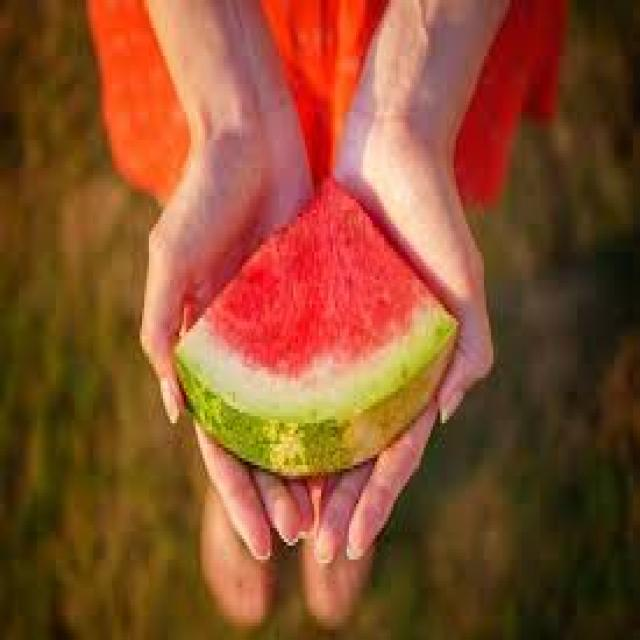watermelon: (172, 171, 461, 476)
